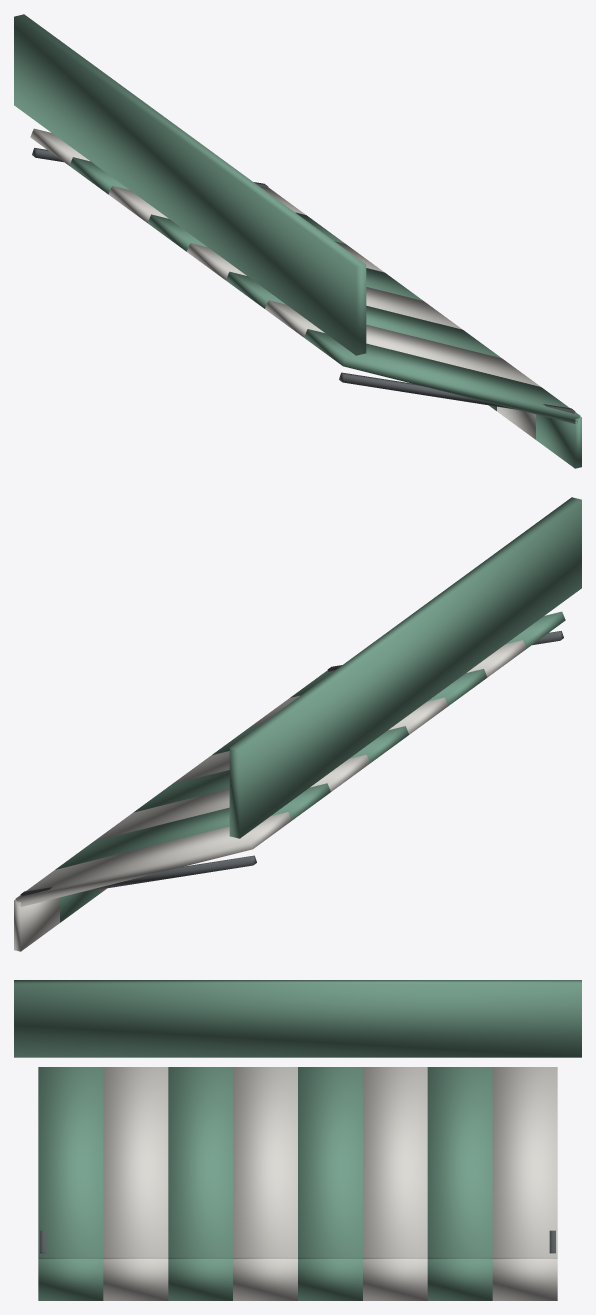
The model's file is awning_green.glb.
3 renders of one model, top to bottom at view 1: azimuth 30°, elevation 25°; view 2: azimuth 150°, elevation 25°; view 3: azimuth 270°, elevation 25°, orthographic. The views are drawn at different scales.
Visible parts, largest first — view 1: awning_green_18, awning_green_0, awning_green_2, awning_green_4, awning_green_6, awning_green_1, awning_green_8, awning_green_16, awning_green_10, awning_green_12, awning_green_14, awning_green_3; view 2: awning_green_18, awning_green_14, awning_green_12, awning_green_10, awning_green_8, awning_green_15, awning_green_6, awning_green_17, awning_green_4, awning_green_2, awning_green_0, awning_green_13; view 3: awning_green_18, awning_green_2, awning_green_12, awning_green_0, awning_green_14, awning_green_4, awning_green_6, awning_green_8, awning_green_10, awning_green_1, awning_green_3, awning_green_13 (+5 smaller).
Part boxes in pixels (x1,y1,x2,y2): awning_green_18: (14,14,366,355); awning_green_0: (304,329,580,423); awning_green_2: (265,300,540,386); awning_green_4: (226,271,501,358); awning_green_6: (187,243,462,329); awning_green_1: (536,414,581,468); awning_green_8: (148,214,423,300); awning_green_16: (339,372,575,413); awning_green_10: (108,186,383,272); awning_green_12: (69,157,345,243); awning_green_14: (30,128,305,214); awning_green_3: (497,406,535,439); awning_green_18: (229,497,581,838); awning_green_14: (15,812,291,906); awning_green_12: (55,783,330,869); awning_green_10: (94,754,369,841); awning_green_8: (133,726,408,812); awning_green_15: (14,897,59,951); awning_green_6: (172,697,447,783); awning_green_17: (20,855,256,896); awning_green_4: (212,669,487,755); awning_green_2: (250,640,526,726); awning_green_0: (290,611,565,697); awning_green_13: (60,889,98,922); awning_green_18: (14,980,581,1057); awning_green_2: (103,1067,168,1258); awning_green_12: (427,1067,492,1258); awning_green_0: (38,1067,103,1258); awning_green_14: (492,1067,557,1258); awning_green_4: (168,1067,232,1258); awning_green_6: (233,1067,297,1258); awning_green_8: (298,1067,362,1258); awning_green_10: (363,1067,427,1258); awning_green_1: (38,1258,103,1300); awning_green_3: (103,1258,168,1300); awning_green_13: (427,1258,492,1300).
Size of the model in its own units: 1.42 by 1.52 by 3.5.
